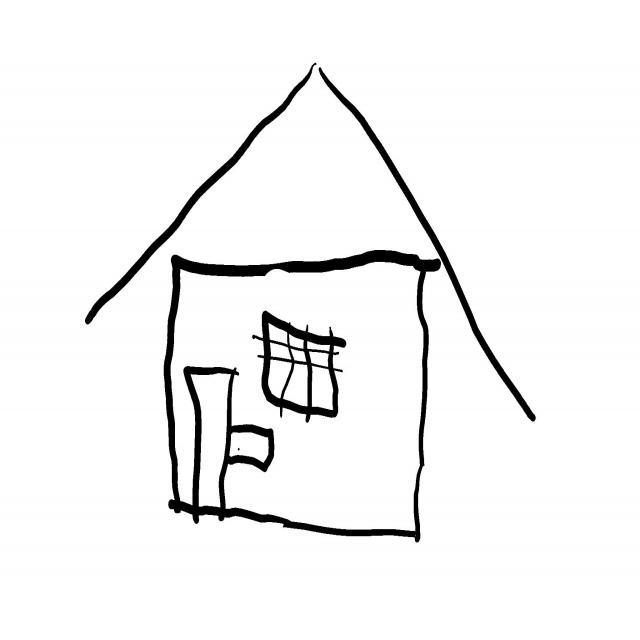door: (186, 361, 237, 514)
house: (90, 67, 536, 542)
roof: (79, 58, 539, 424)
wall: (171, 263, 428, 535)
window: (257, 308, 345, 421)
